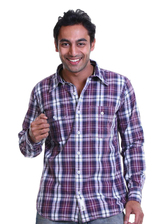clothoes: (17, 59, 146, 218)
